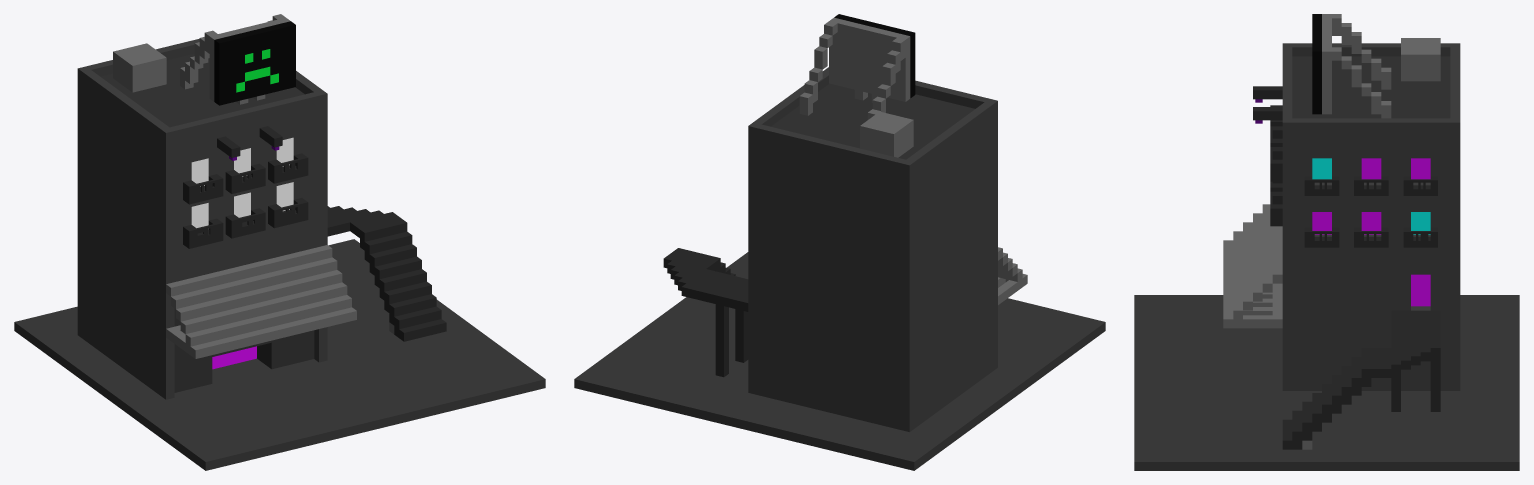
File: building-large-3.obj
The picture shows the model from 3 angles, left to right: view 1: azimuth 30°, elevation 25°; view 2: azimuth 150°, elevation 25°; view 3: azimuth 270°, elevation 25°; orthographic projection.
Size of the model in its own units: 16 by 15.2 by 15.6.
Materials: 1 (1 with a texture image).
